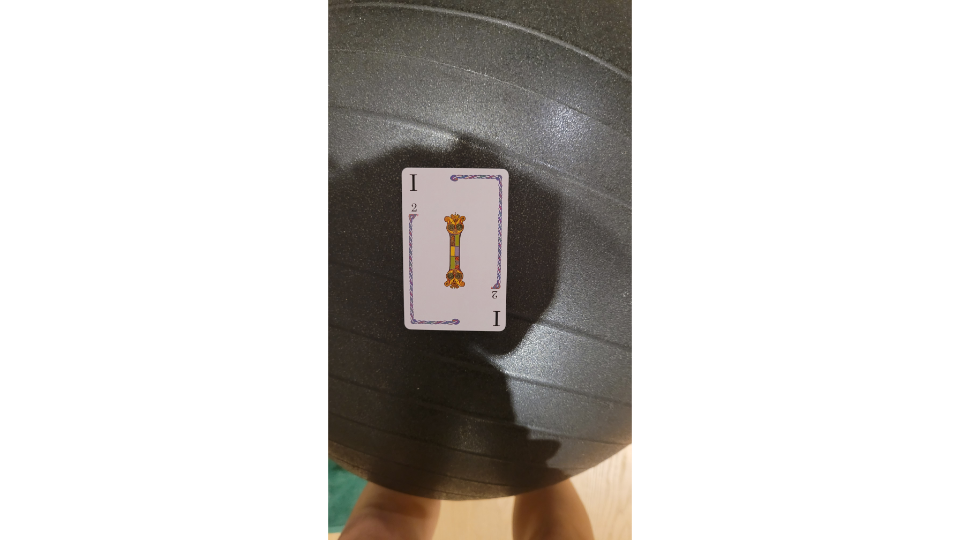I: (399, 162, 514, 337)
